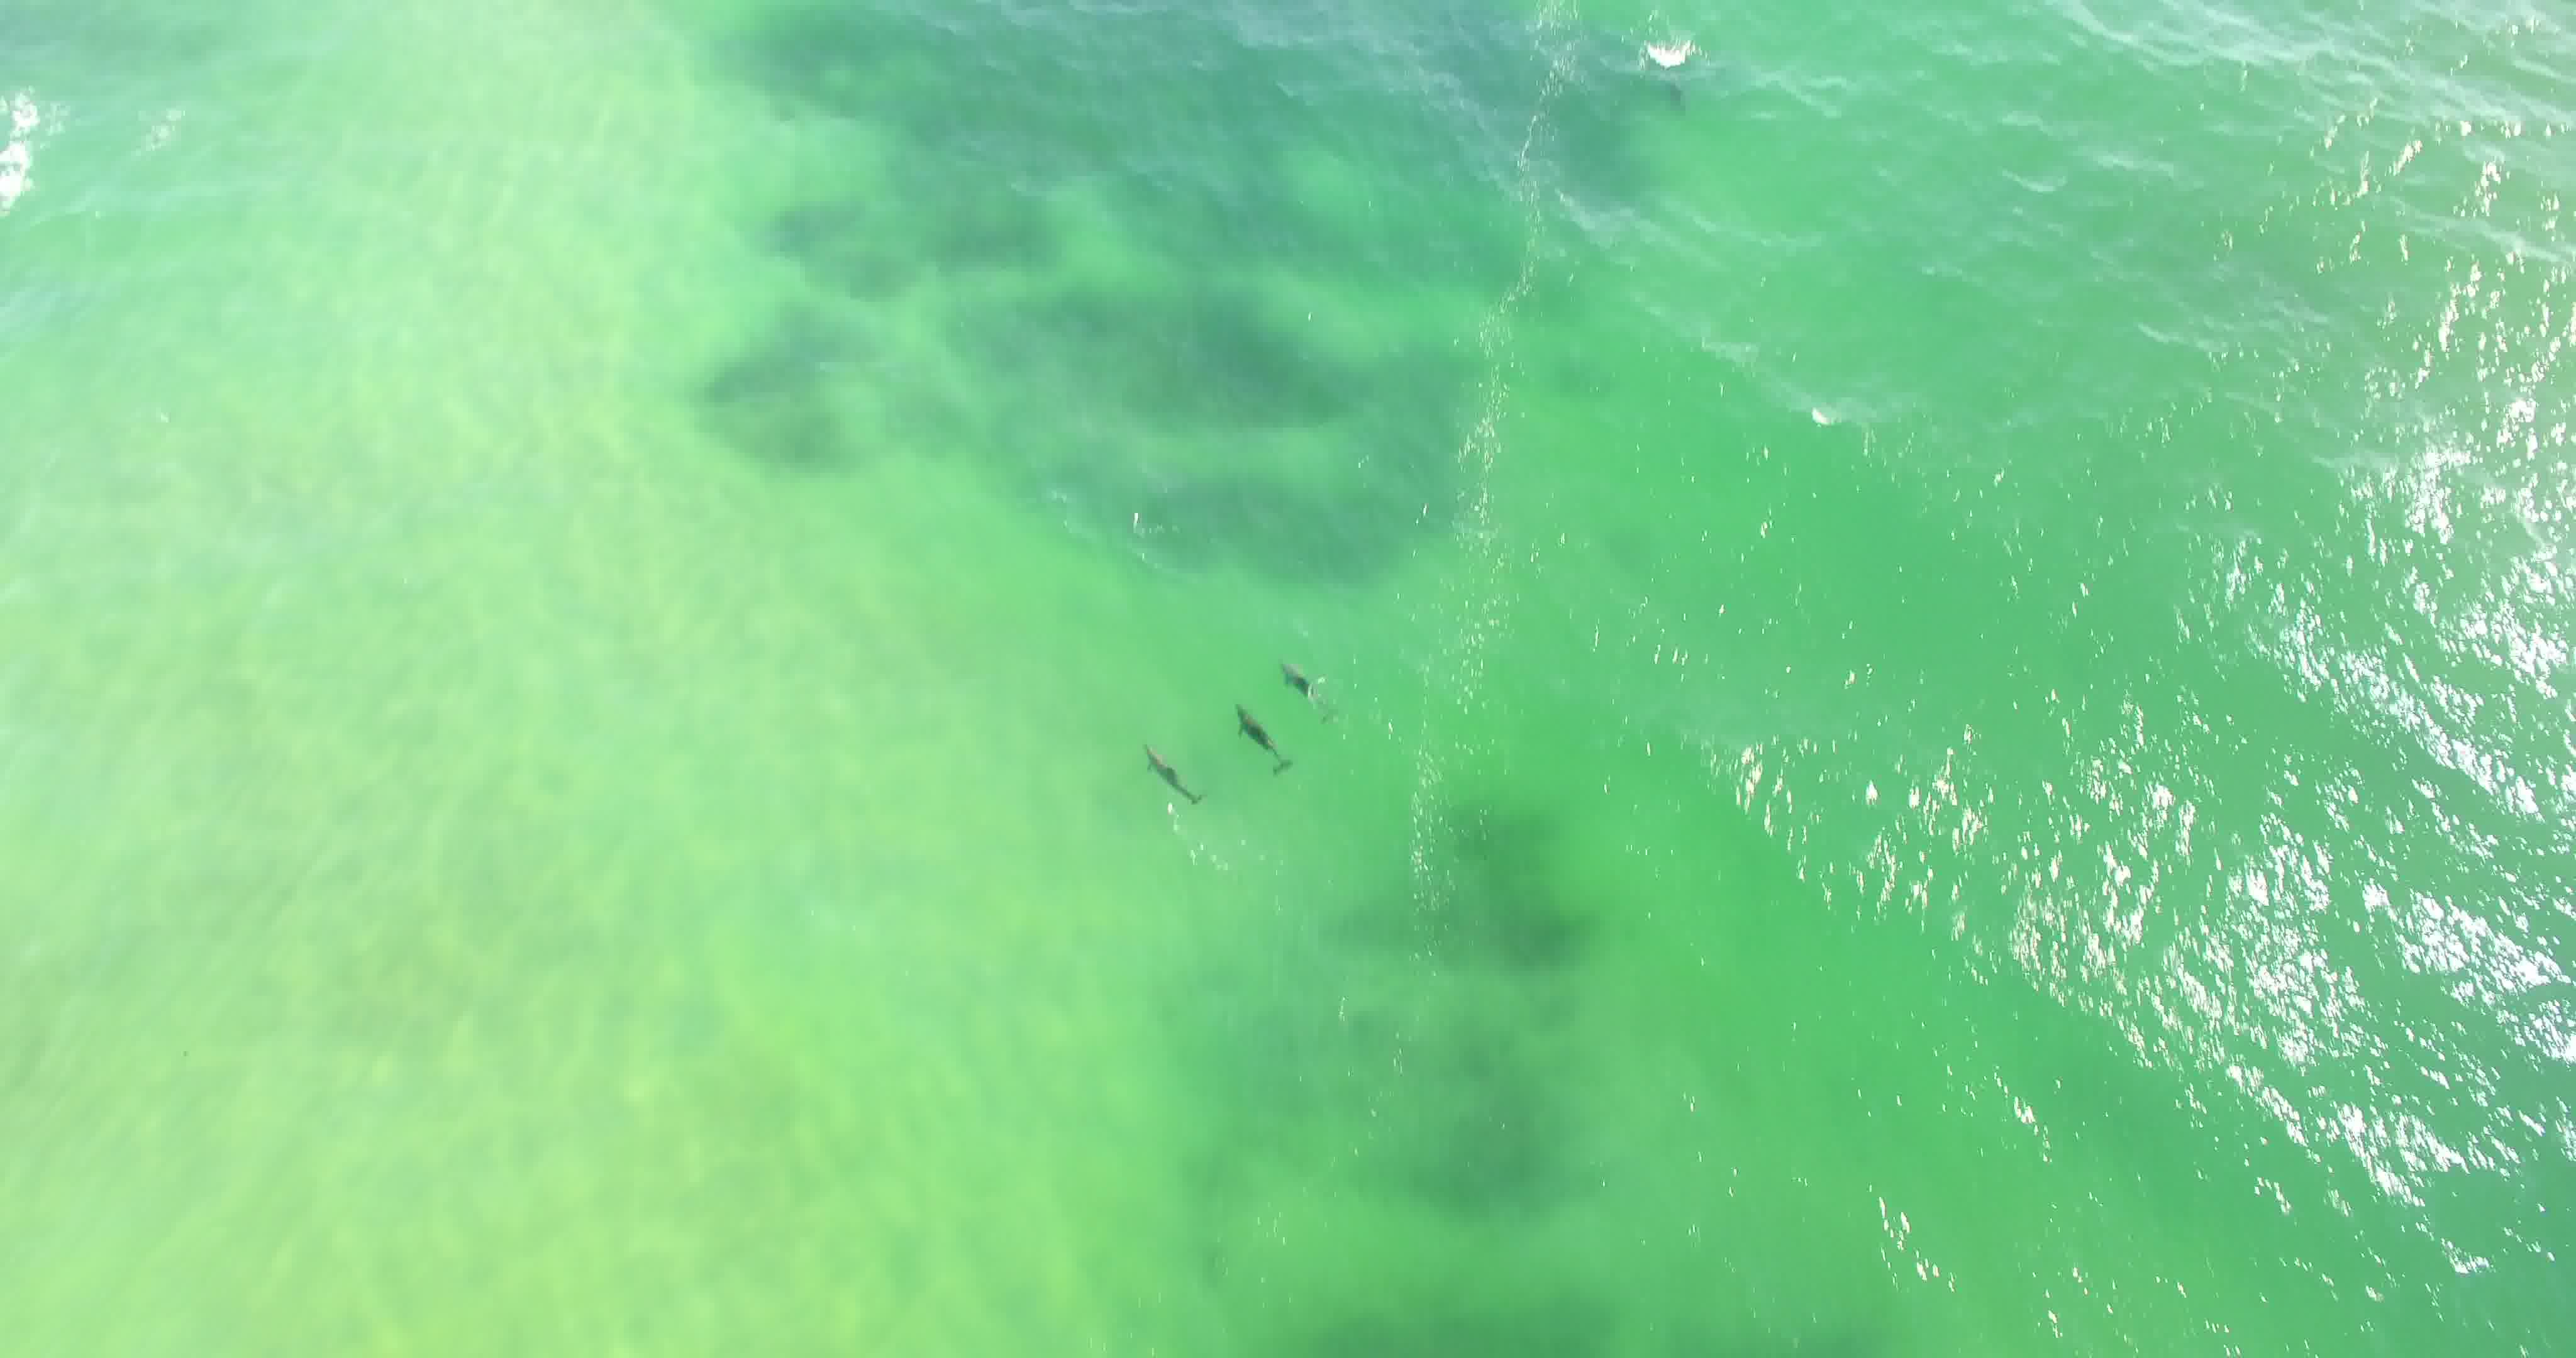dolphin: (1113, 724, 1215, 814), (1205, 692, 1305, 779), (1269, 647, 1351, 729)
